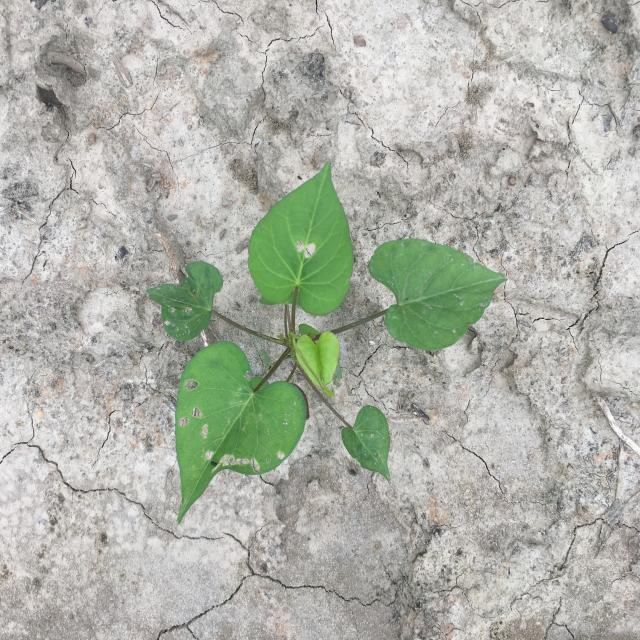MorningGlory: (145, 162, 509, 526)
